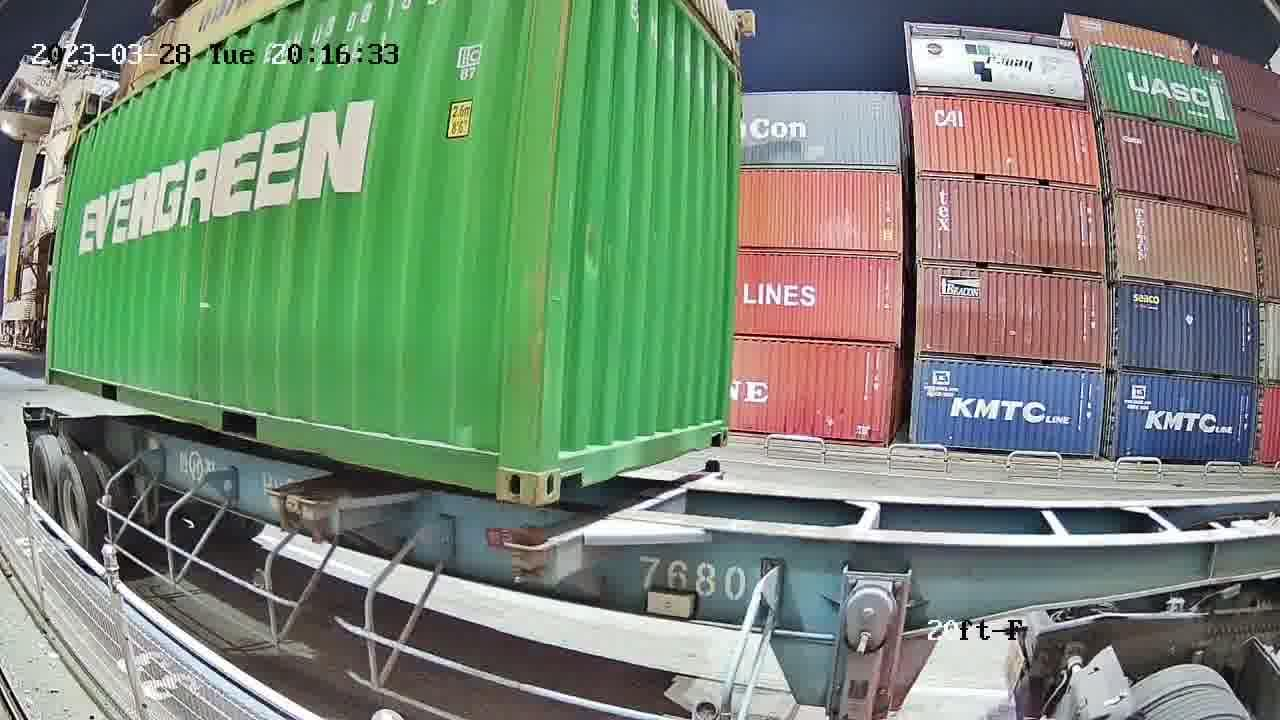Chassis: (505, 470, 723, 581)
Cone: (506, 527, 549, 581), (702, 460, 723, 474)
Hole_L: (539, 415, 592, 508)
Hole_R: (462, 414, 540, 506), (705, 401, 730, 449)
Tire: (61, 455, 94, 562), (30, 443, 56, 523)
